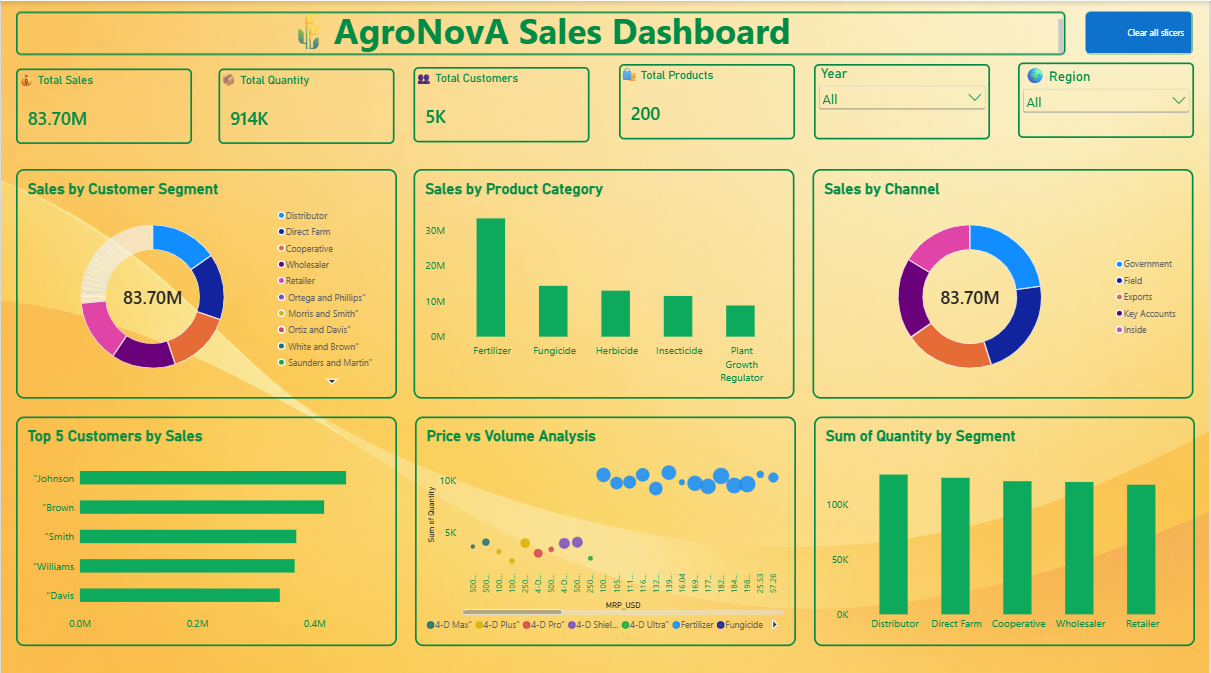

This screenshot's page, from the dashboard's own definition file:
{"tool":"powerbi","page":{"name":"Customer & Product Analysis","canvas":[1920,1080],"ordinal":1},"visuals":[{"type":"textbox","box":[25,15.9,1669,69],"z":0},{"type":"actionButton","title":"Reset","box":[1726.2,15.9,170.3,68.1],"z":1000},{"type":"cardVisual","title":"💰 Total Sales","fields":{"Data":["Sum(STG_Fact_Sales.NetSales_USD)"]},"box":[25,106.8,280,120],"z":2000},{"type":"cardVisual","title":"📦 Total Quantity","fields":{"Data":["Sum(STG_Fact_Sales.Quantity)"]},"box":[345.2,106.8,280,120],"z":3000},{"type":"cardVisual","title":"👥 Total Customers","fields":{"Data":["Count(STG_Fact_Sales.CustomerID)"]},"box":[656.4,104.5,280,120],"z":4000},{"type":"cardVisual","title":"🛍️ Total Products","fields":{"Data":["Count(STG_Fact_Sales.ProductID)"]},"box":[983.5,99.9,280,120],"z":5000},{"type":"slicer","fields":{"Values":["STG_Dim_Calendar.Year"]},"box":[1292.4,99.9,280,120],"z":6000},{"type":"slicer","fields":{"Values":["STG_Dim_Country.Region"]},"box":[1617.7,98.2,280,120],"z":7000},{"type":"donutChart","title":"Sales by Customer Segment","fields":{"Category":["STG_Dim_Customer.Segment"],"Y":["Sum(STG_Fact_Sales.NetSales_USD)"]},"box":[25,268,606,365],"z":8000},{"type":"clusteredBarChart","title":"Top 5 Customers by Sales","fields":{"Category":["STG_Dim_Customer.CustomerName"],"Y":["Sum(STG_Fact_Sales.NetSales_USD)"]},"box":[25,661,606,365],"z":9000},{"type":"clusteredColumnChart","title":"Sales by Product Category","fields":{"Category":["STG_Dim_Product.Category"],"Y":["Sum(STG_Fact_Sales.NetSales_USD)"]},"box":[656.4,268,606,365],"z":10000},{"type":"scatterChart","title":"Price vs Volume Analysis","fields":{"X":["STG_Dim_Product.MRP_USD"],"Y":["Sum(STG_Fact_Sales.Quantity)"],"Size":["Sum(STG_Fact_Sales.NetSales_USD)"],"Series":["STG_Dim_Product.Category"]},"box":[658.7,661,606,365],"z":11000},{"type":"donutChart","title":"Sales by Channel","fields":{"Category":["STG_Dim_Salesperson.Channel"],"Y":["Sum(STG_Fact_Sales.NetSales_USD)"]},"box":[1290.1,268,606,365],"z":12000},{"type":"clusteredColumnChart","fields":{"Category":["STG_Dim_Customer.Segment"],"Y":["Sum(STG_Fact_Sales.Quantity)"]},"box":[1292.4,661,606,365],"z":13000}]}

Visuals, with their boxes in screenshot pixels (x1, y1, x2, y2), scaled from the page's 1920x1080 canvas onto the 1211x673 screenshot:
textbox: bbox(16, 10, 1068, 53)
"Reset" actionButton: bbox(1089, 10, 1196, 52)
"💰 Total Sales" cardVisual: bbox(16, 67, 192, 141)
"📦 Total Quantity" cardVisual: bbox(218, 67, 394, 141)
"👥 Total Customers" cardVisual: bbox(414, 65, 591, 140)
"🛍️ Total Products" cardVisual: bbox(620, 62, 797, 137)
slicer - STG_Dim_Calendar.Year: bbox(815, 62, 992, 137)
slicer - STG_Dim_Country.Region: bbox(1020, 61, 1197, 136)
"Sales by Customer Segment" donutChart: bbox(16, 167, 398, 394)
"Top 5 Customers by Sales" clusteredBarChart: bbox(16, 412, 398, 639)
"Sales by Product Category" clusteredColumnChart: bbox(414, 167, 796, 394)
"Price vs Volume Analysis" scatterChart: bbox(415, 412, 798, 639)
"Sales by Channel" donutChart: bbox(814, 167, 1196, 394)
clusteredColumnChart - STG_Dim_Customer.Segment x Sum(STG_Fact_Sales.Quantity): bbox(815, 412, 1197, 639)
